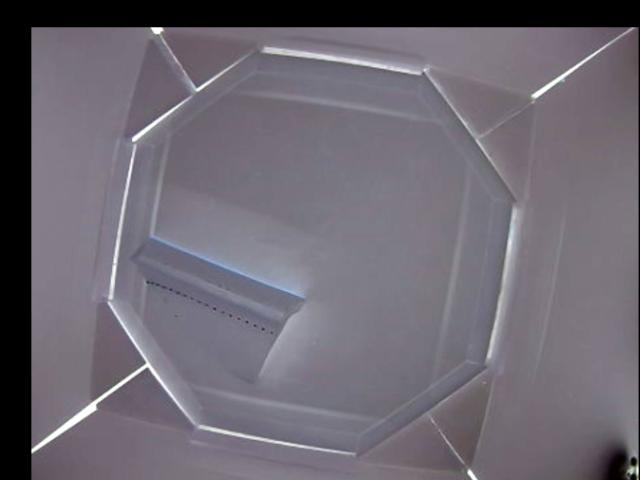China: (130, 238, 302, 381)
